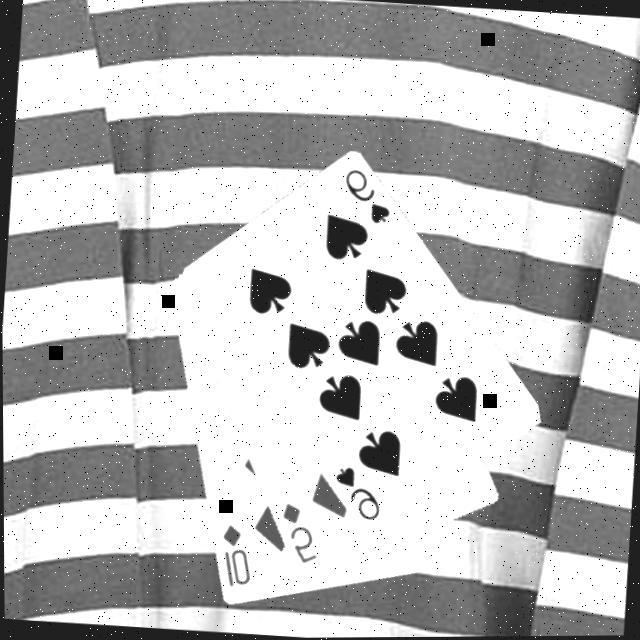10D: (215, 519, 257, 589)
5D: (275, 497, 324, 567)
9S: (338, 163, 396, 227), (328, 460, 386, 523)
